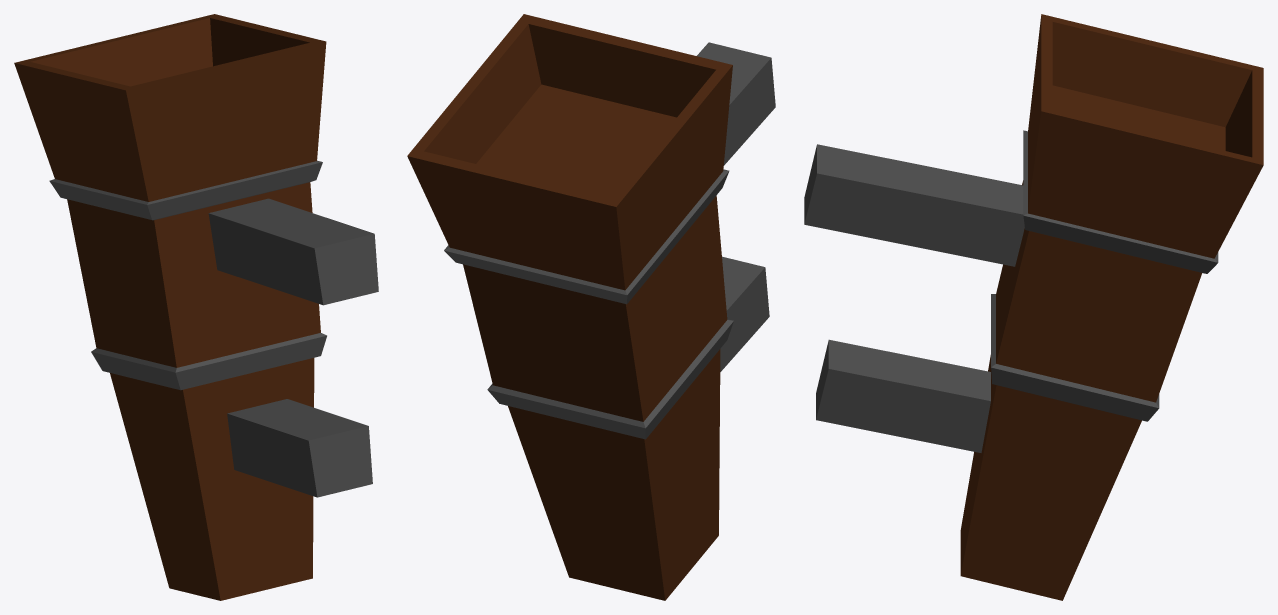
File: Walltorch01.fbx
3 renders of one model, left to right at view 1: azimuth 30°, elevation 25°; view 2: azimuth 150°, elevation 25°; view 3: azimuth 270°, elevation 25°, orthographic. The views are drawn at different scales.
Parts seen in each view (by area): view 1: Cube.001; view 2: Cube.001; view 3: Cube.001.
Boxes of the visible parts, left/top/right/bottom form: Cube.001: left=14, top=14, right=378, bottom=600; Cube.001: left=407, top=14, right=775, bottom=600; Cube.001: left=804, top=14, right=1263, bottom=600.
Bounding box in the file's own units: 29.57 × 73.14 × 59.01.
